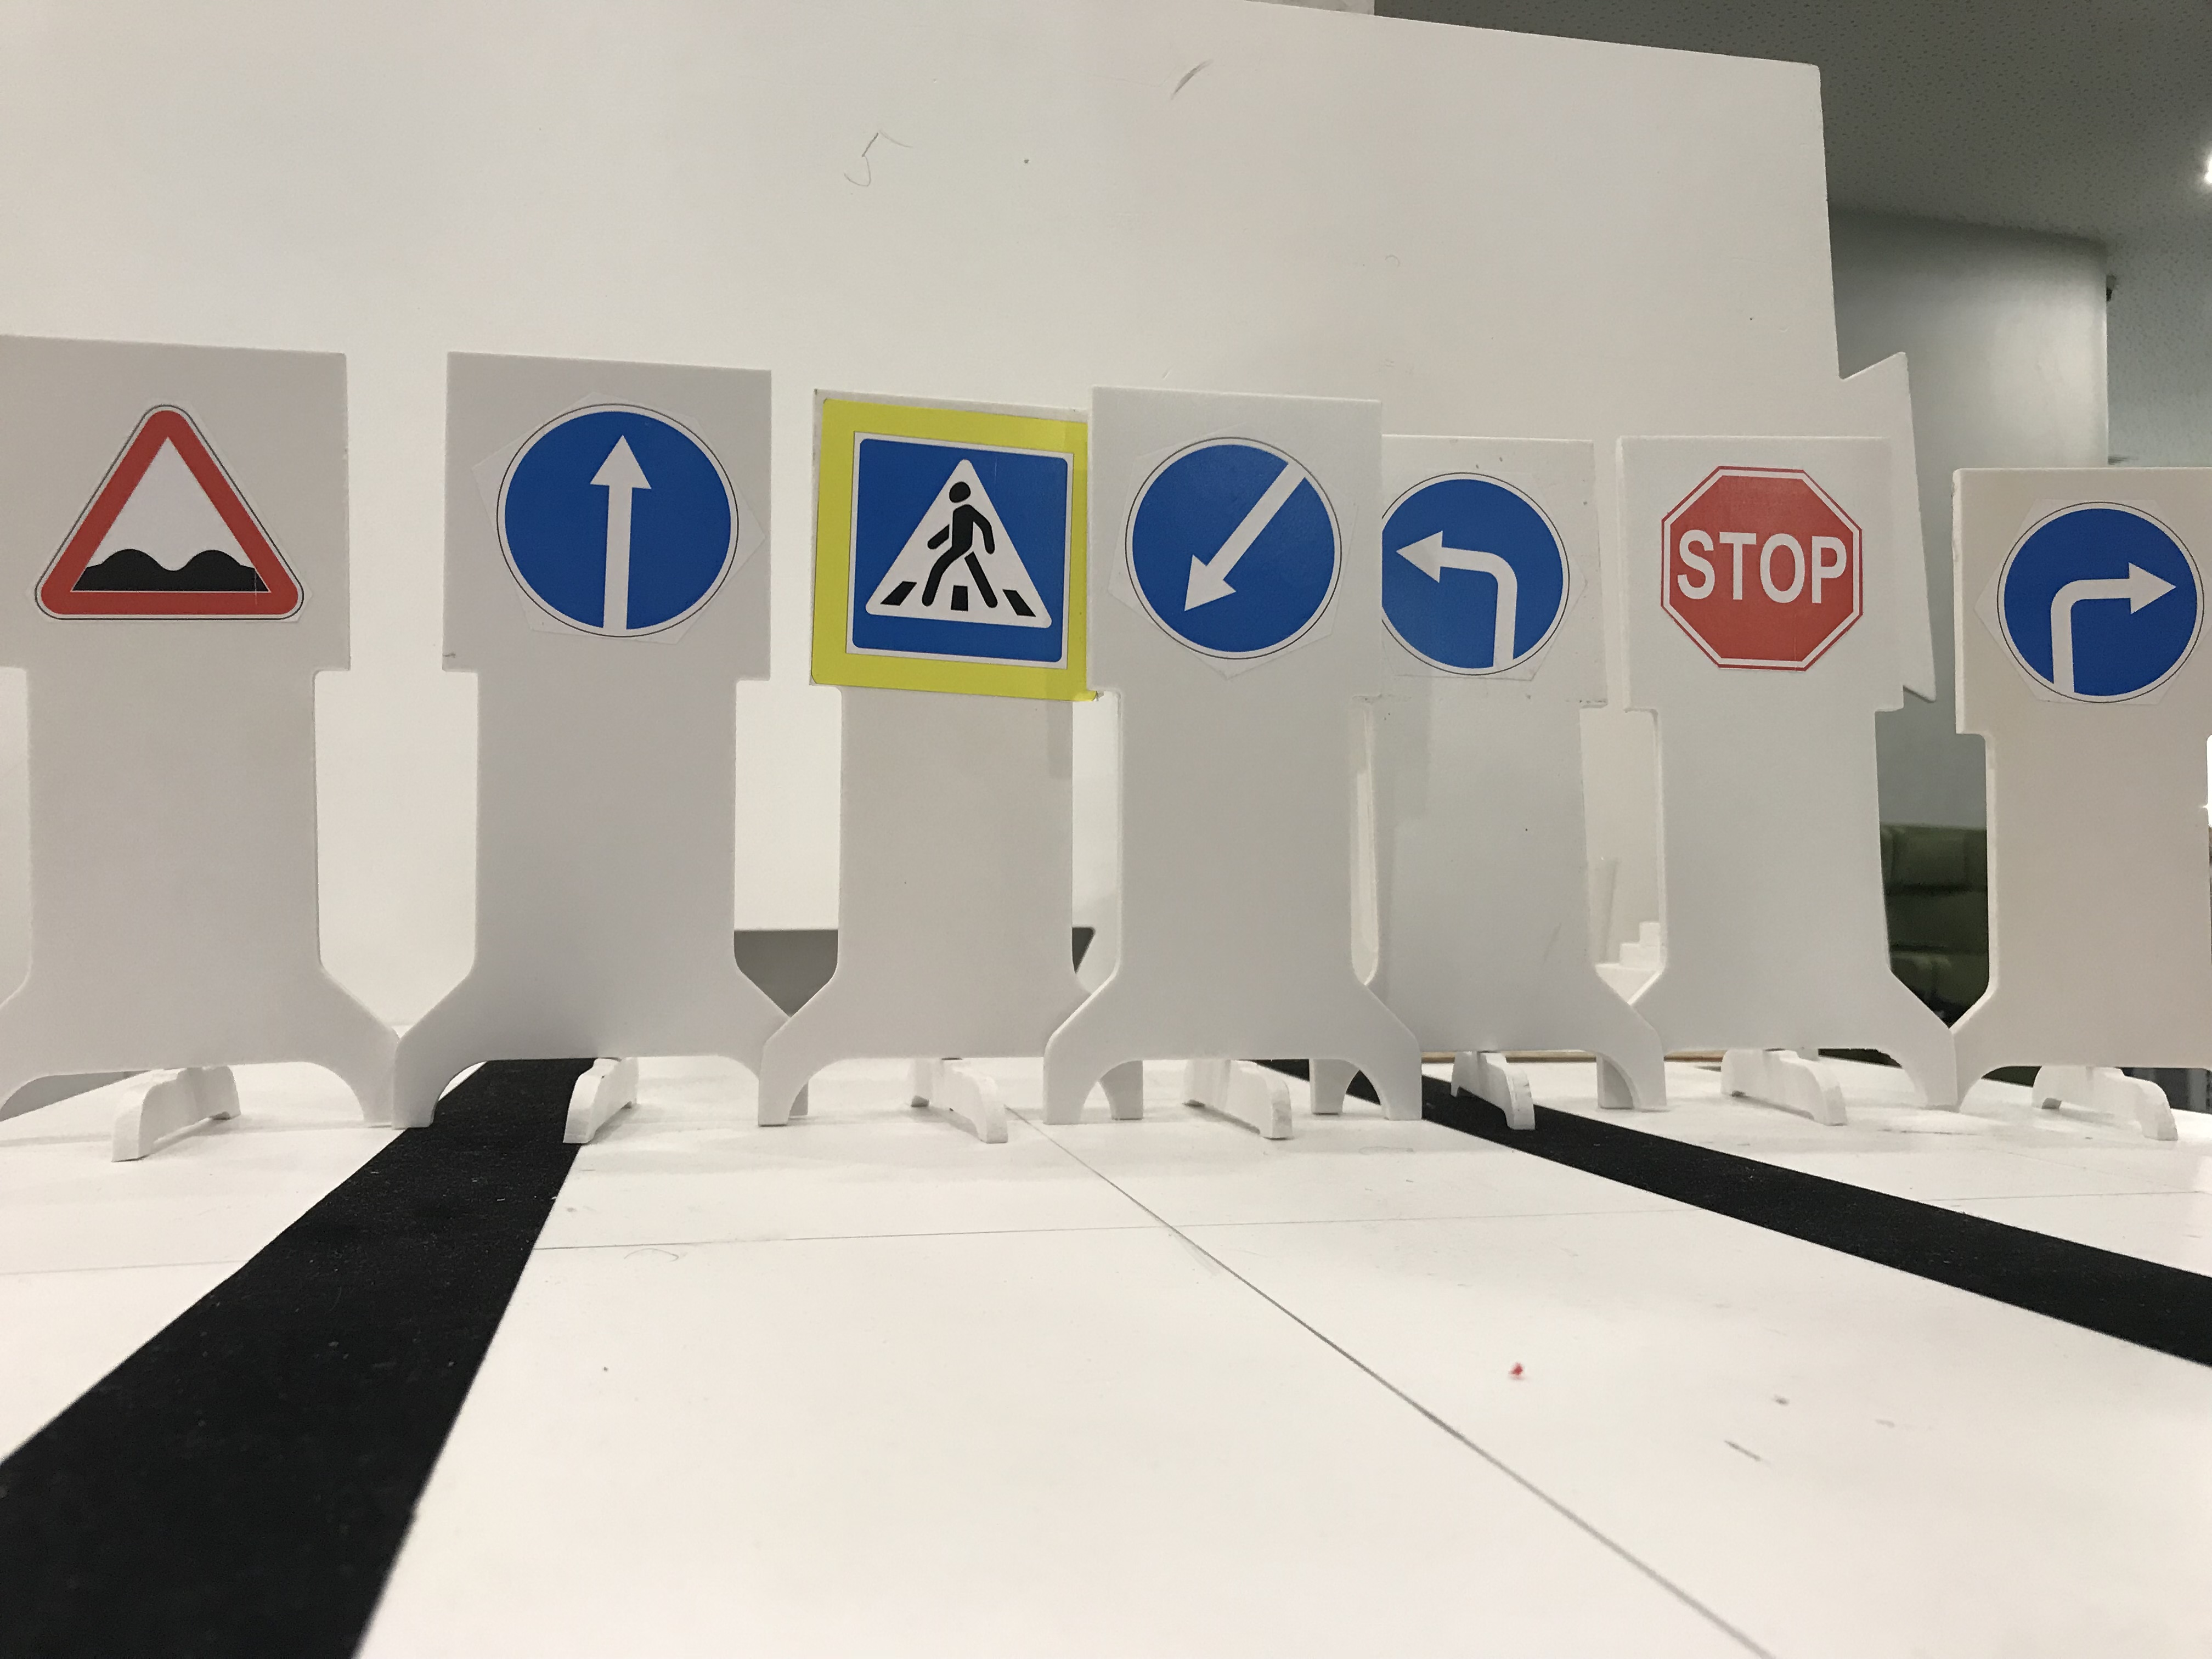Left: (1374, 474, 1573, 681)
Nerov: (35, 403, 310, 629)
Right: (1994, 498, 2202, 702)
Stop: (1653, 460, 1869, 676)
forw: (486, 399, 735, 645)
pesh: (815, 387, 1078, 694)
prep: (1116, 430, 1348, 660)
